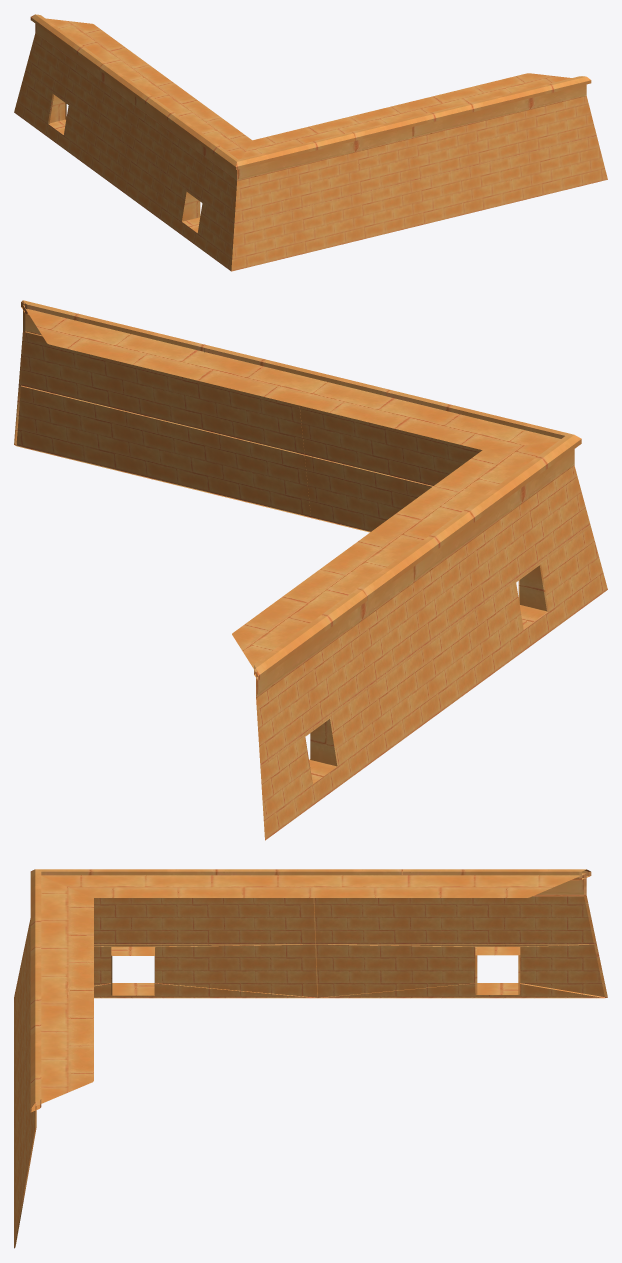
File: pm-temple-floor-01-cut.001.glb
The picture shows the model from 3 angles, top to bottom: view 1: azimuth 30°, elevation 25°; view 2: azimuth 150°, elevation 25°; view 3: azimuth 270°, elevation 25°; orthographic projection. The views are drawn at different scales.
Visible parts, largest first — view 1: TempleFloor01_Cut.001; view 2: TempleFloor01_Cut.001; view 3: TempleFloor01_Cut.001.
Part boxes in pixels (x1,y1,x2,y2): TempleFloor01_Cut.001: (14, 14, 607, 271); TempleFloor01_Cut.001: (14, 300, 607, 840); TempleFloor01_Cut.001: (14, 869, 607, 1248).
Size of the model in its own units: 64.24 by 16.41 by 64.24.
Materials: 2 (2 with a texture image).
